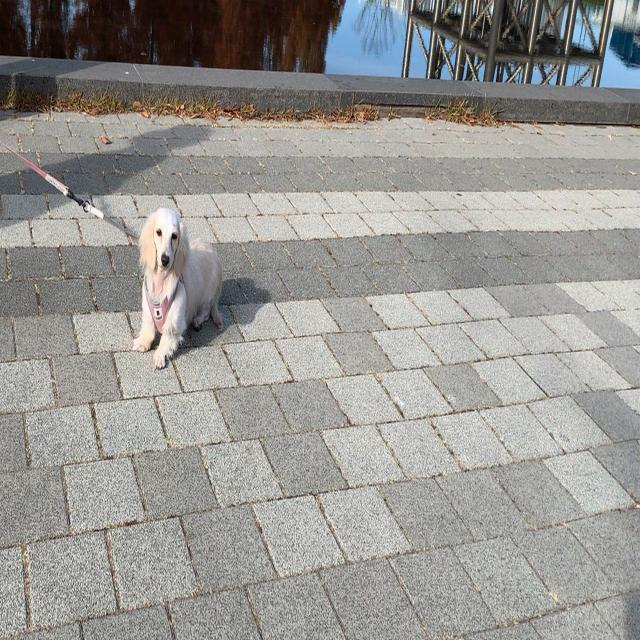Dog: (128, 206, 226, 371)
